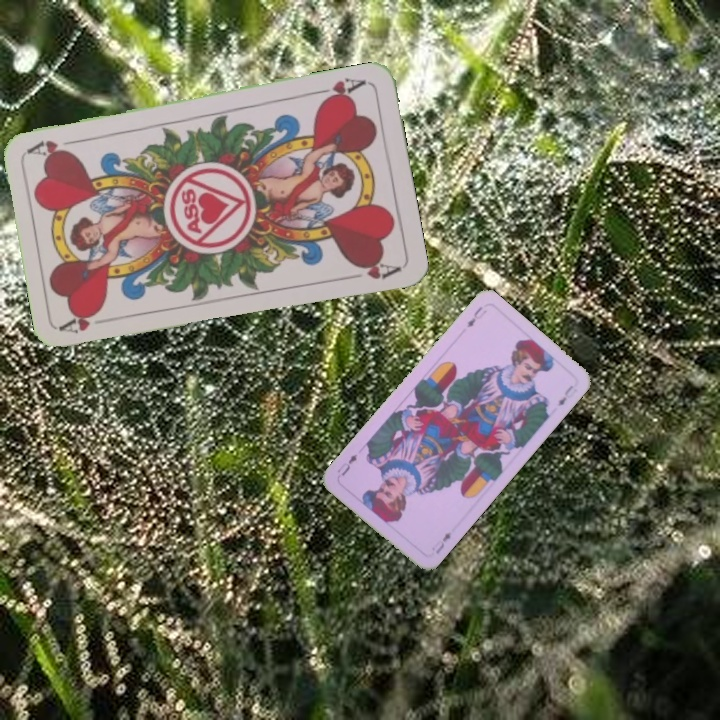EU: (463, 302, 490, 330), (429, 528, 454, 557)
HA: (311, 73, 369, 106), (58, 306, 117, 336)
